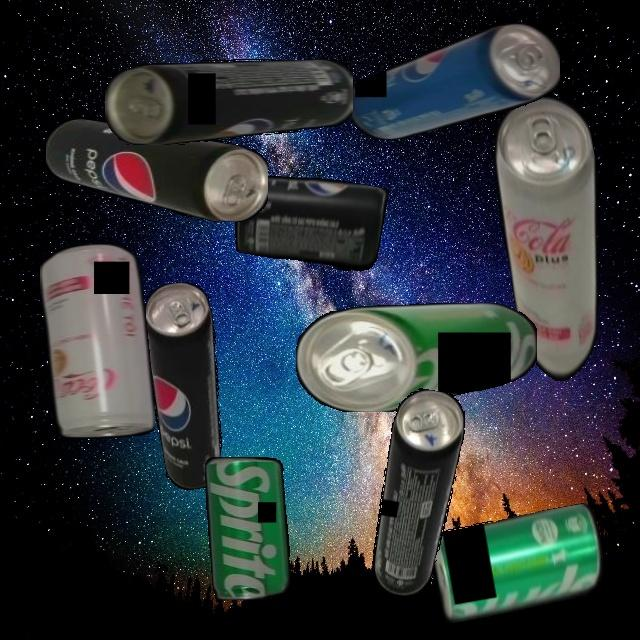debris: (481, 90, 633, 392), (296, 302, 537, 412), (350, 23, 560, 139), (134, 278, 241, 493), (45, 119, 268, 222), (364, 385, 470, 601), (40, 243, 155, 439), (429, 502, 610, 624), (105, 58, 353, 145), (230, 164, 389, 276), (205, 456, 290, 600)
